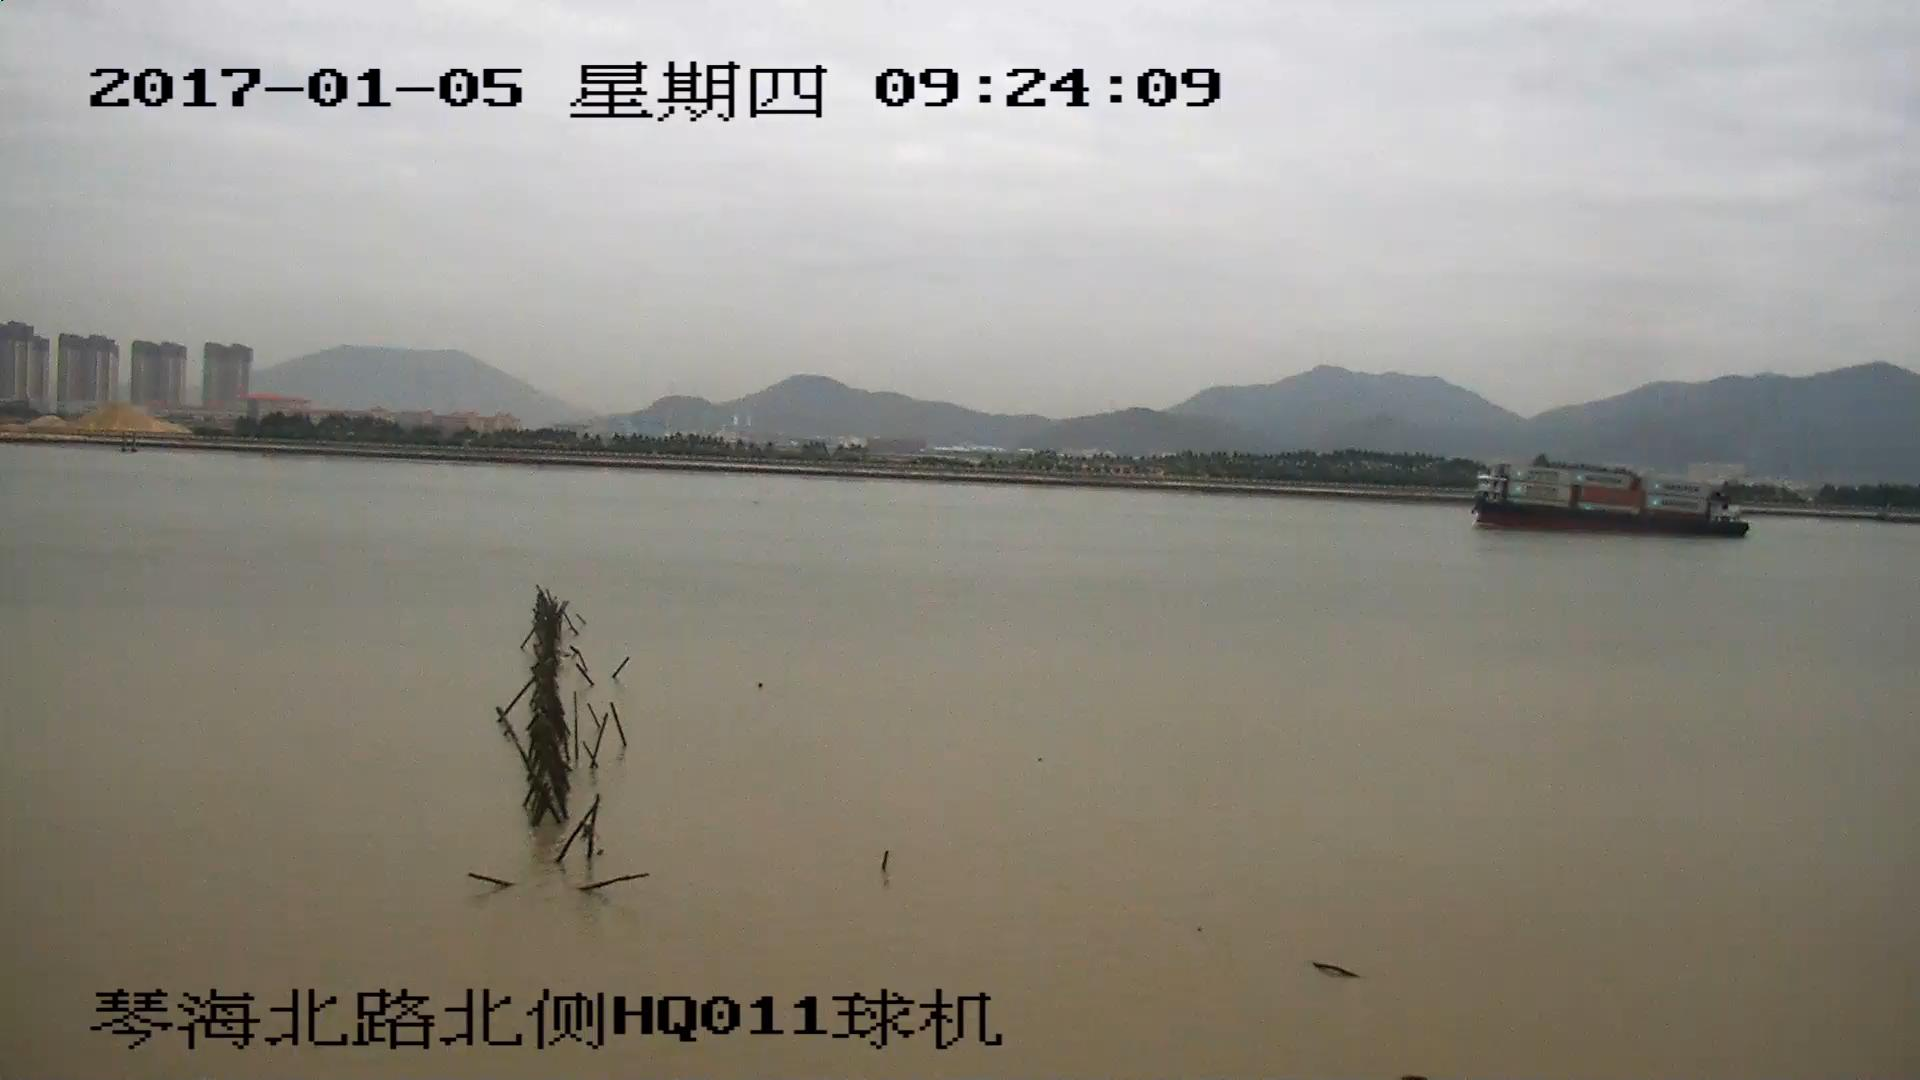container ship: (1472, 463, 1746, 532)
